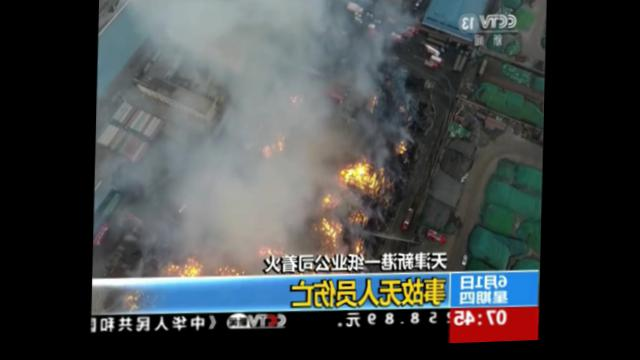fire: (345, 164, 377, 190), (324, 223, 341, 243), (185, 263, 203, 276), (328, 199, 335, 208)
